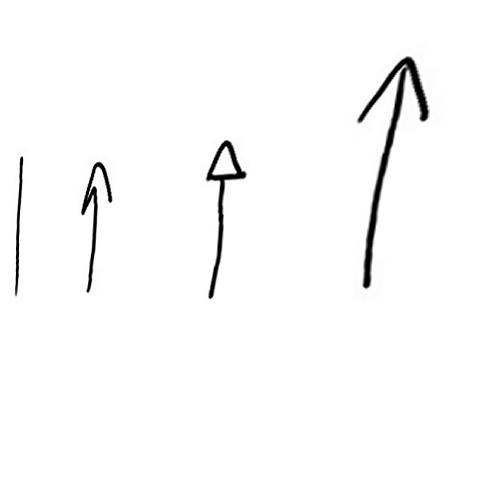arrow: (364, 54, 432, 285), (201, 139, 245, 302), (78, 159, 111, 294)
arrownohead: (10, 157, 27, 295)
